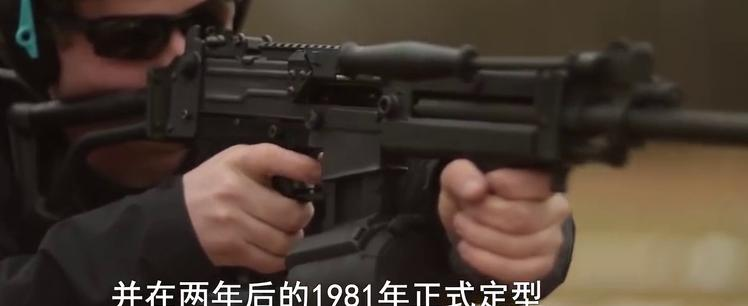gun: (1, 0, 748, 306)
